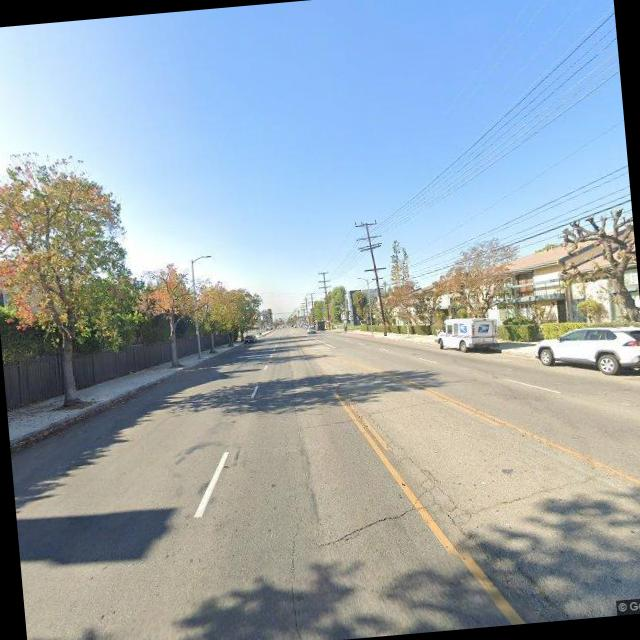crack: (364, 396, 536, 601), (306, 482, 441, 550), (446, 468, 608, 520), (280, 478, 316, 640)
